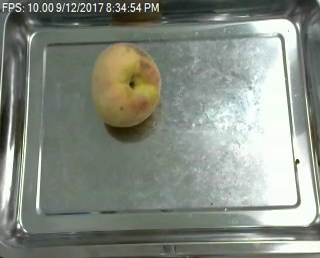Peach: (91, 41, 161, 127)
